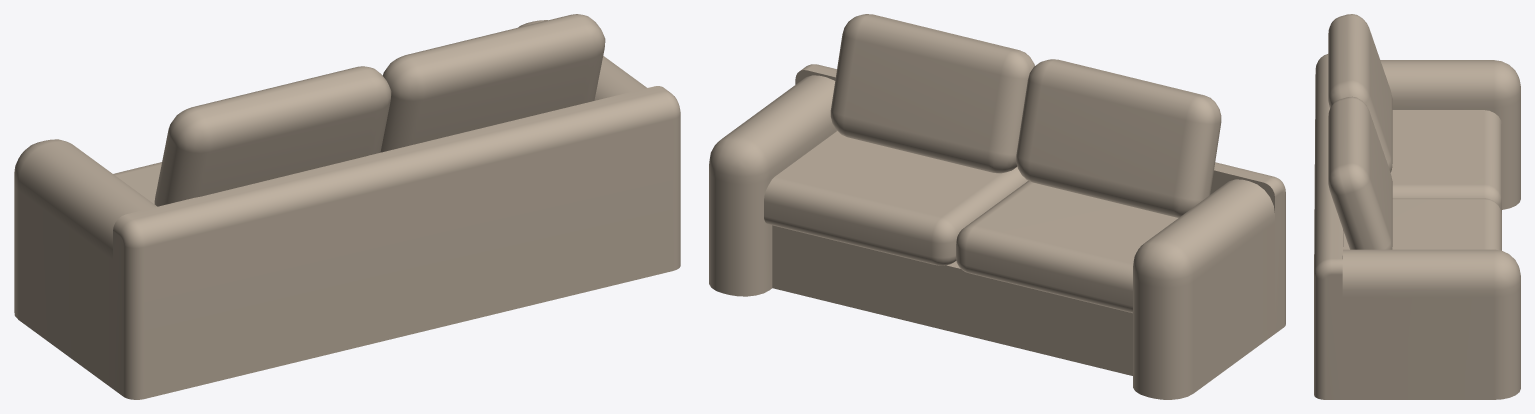
The model's file is Canape2_4.fbx.
The picture shows the model from 3 angles, left to right: view 1: azimuth 30°, elevation 25°; view 2: azimuth 150°, elevation 25°; view 3: azimuth 270°, elevation 25°; orthographic projection. The views are drawn at different scales.
Visible parts, largest first — view 1: pCube1068, pCube2538, pCube2535, pCube2534, pCube2533, pCube2523; view 2: pCube2538, pCube2535, pCube2534, pCube2539, pCube2522, pCube2523, pCube2533, pCube1068; view 3: pCube2533, pCube2523, pCube2538, pCube2534, pCube1068, pCube2522, pCube2535.
Boxes of the visible parts, x1,y1,x2,y2 form: pCube1068: [113, 86, 680, 399]; pCube2538: [14, 139, 157, 388]; pCube2535: [154, 66, 391, 206]; pCube2534: [380, 14, 605, 152]; pCube2533: [518, 20, 646, 100]; pCube2523: [113, 162, 161, 203]; pCube2538: [1133, 179, 1274, 399]; pCube2535: [1016, 59, 1221, 217]; pCube2534: [830, 14, 1034, 173]; pCube2539: [772, 225, 1132, 375]; pCube2522: [764, 131, 1027, 265]; pCube2523: [956, 180, 1178, 313]; pCube2533: [709, 75, 836, 296]; pCube1068: [795, 64, 1285, 333]; pCube2533: [1342, 249, 1520, 399]; pCube2523: [1390, 110, 1501, 213]; pCube2538: [1380, 60, 1520, 209]; pCube2534: [1328, 96, 1392, 249]; pCube1068: [1314, 54, 1343, 399]; pCube2522: [1343, 198, 1501, 250]; pCube2535: [1328, 14, 1392, 172].
Size of the model in its own units: 167 by 73.88 by 68.22.
